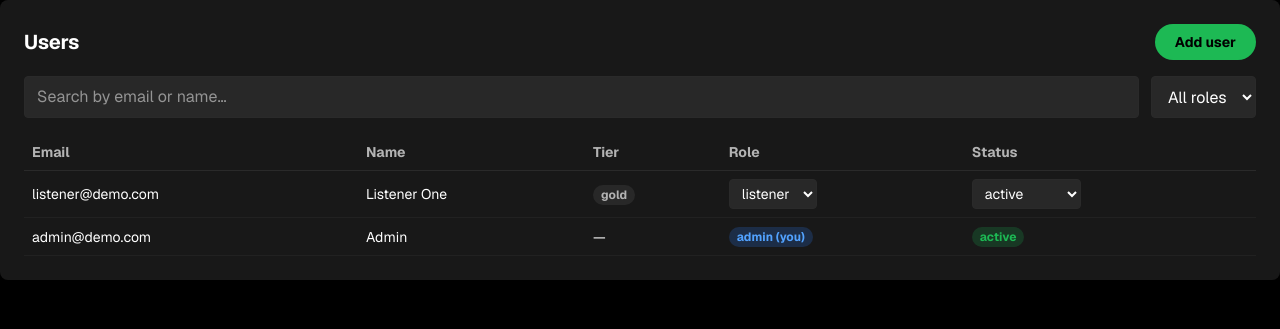
Test: UserManagement › promotes a user to artist through the role editor
Expected: the text "listener@demo.com" is shown, [24,170,358,218]
Select "artist" in the dropdown named "Role for listener@demo.com" at point(773, 194), box [729,179,817,209]
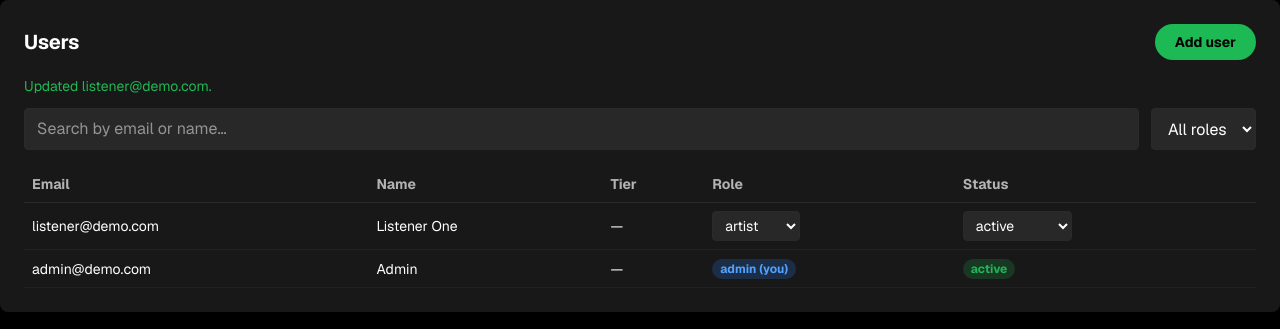
Expected: the text "Updated listener@demo.com." is shown, [24,77,212,95]
